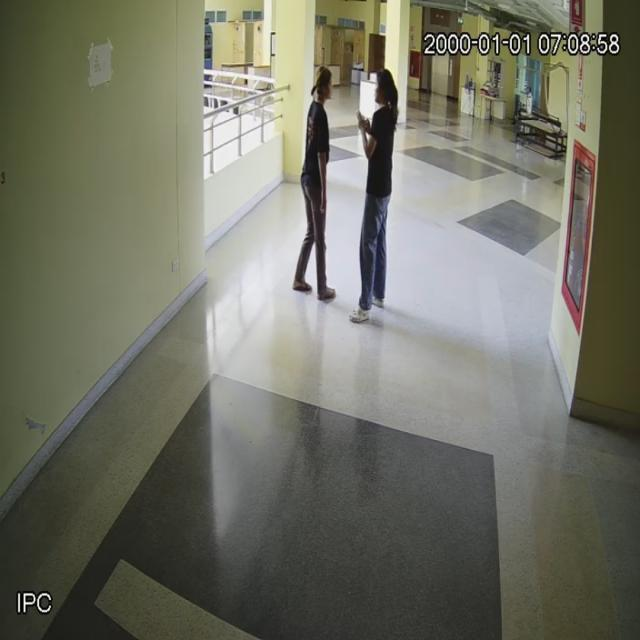normal: (348, 66, 403, 330), (296, 66, 340, 306)
